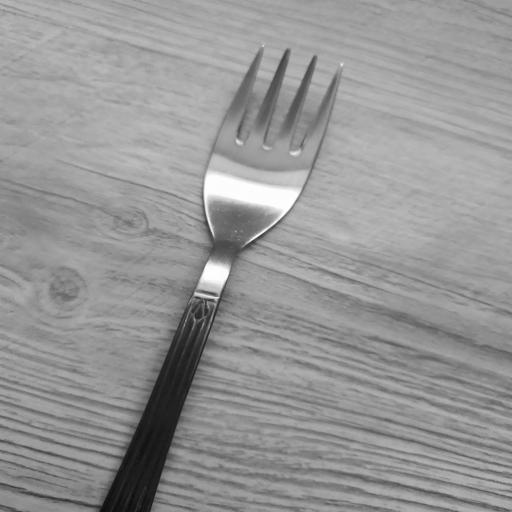fork: (95, 44, 346, 512)
